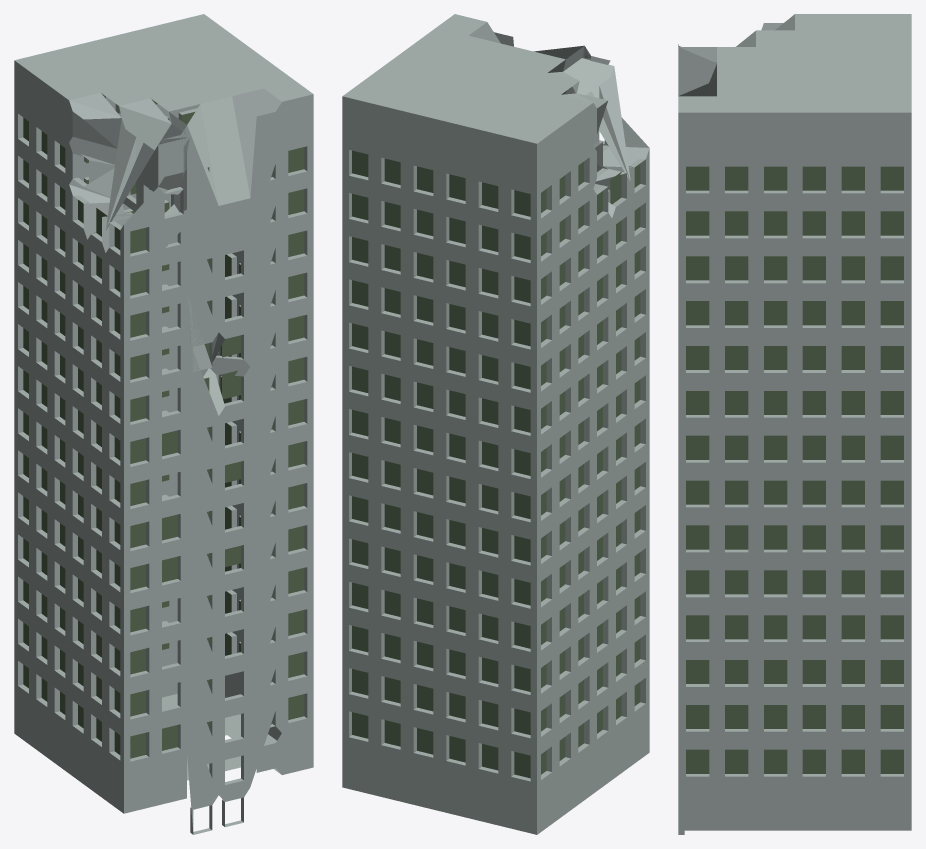
The model's file is 07 Building_2.FBX.
The picture shows the model from 3 angles, left to right: view 1: azimuth 30°, elevation 25°; view 2: azimuth 150°, elevation 25°; view 3: azimuth 270°, elevation 25°; orthographic projection. The views are drawn at different scales.
Parts seen in each view (by area): view 1: Building_2; view 2: Building_2; view 3: Building_2.
Part boxes in pixels (x1=…): Building_2: x1=14, y1=14, x2=313, y2=834; Building_2: x1=342, y1=14, x2=649, y2=834; Building_2: x1=678, y1=14, x2=911, y2=834.
Size of the model in its own units: 1500 by 5374 by 1500.
